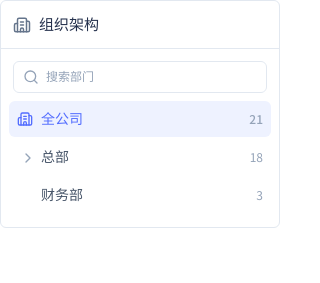
Test: DepartmentTree › filters by department name while preserving matching ancestors and counts
In the search field with test id "department-search": (140, 77) [13, 61, 267, 93], type "设计"
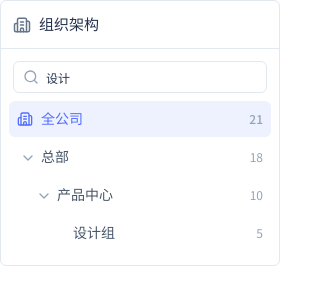
Expected: the button with test id "department-node-1" is shown, [9, 139, 271, 175]
Expected: the button with test id "department-node-2" is shown, [9, 177, 271, 213]
Expected: the button with test id "department-node-3" shows "5", [9, 215, 271, 251]
